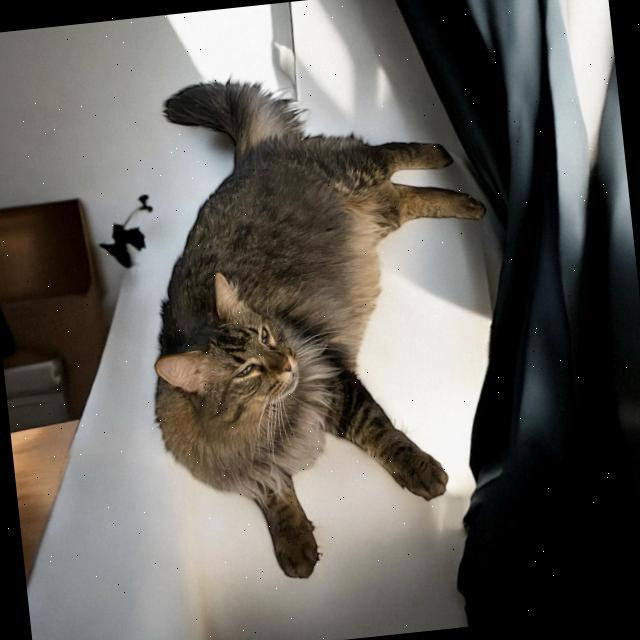maine_coon_cat: (107, 37, 528, 600)
